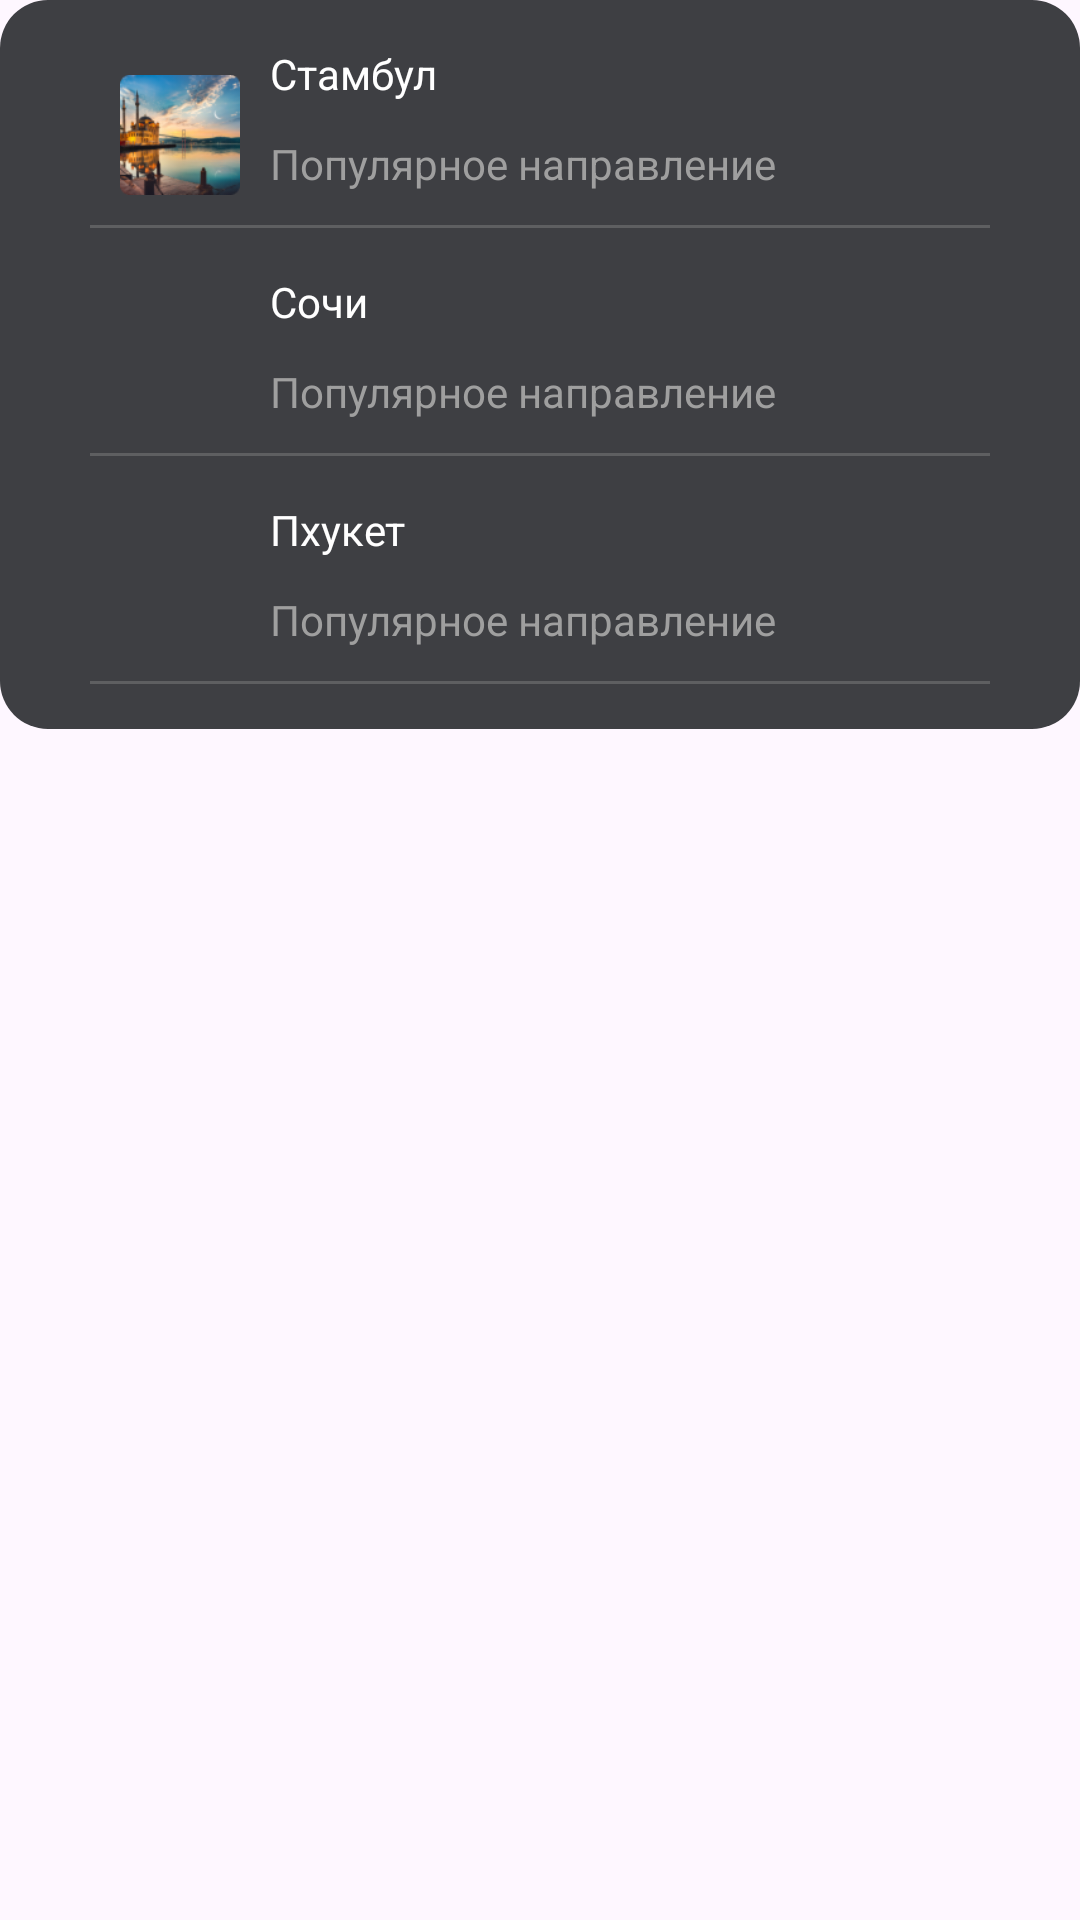

Where to tap for icons on this 1080 × 1920 app screen, as (x,y):
istanbul: (180,135)
